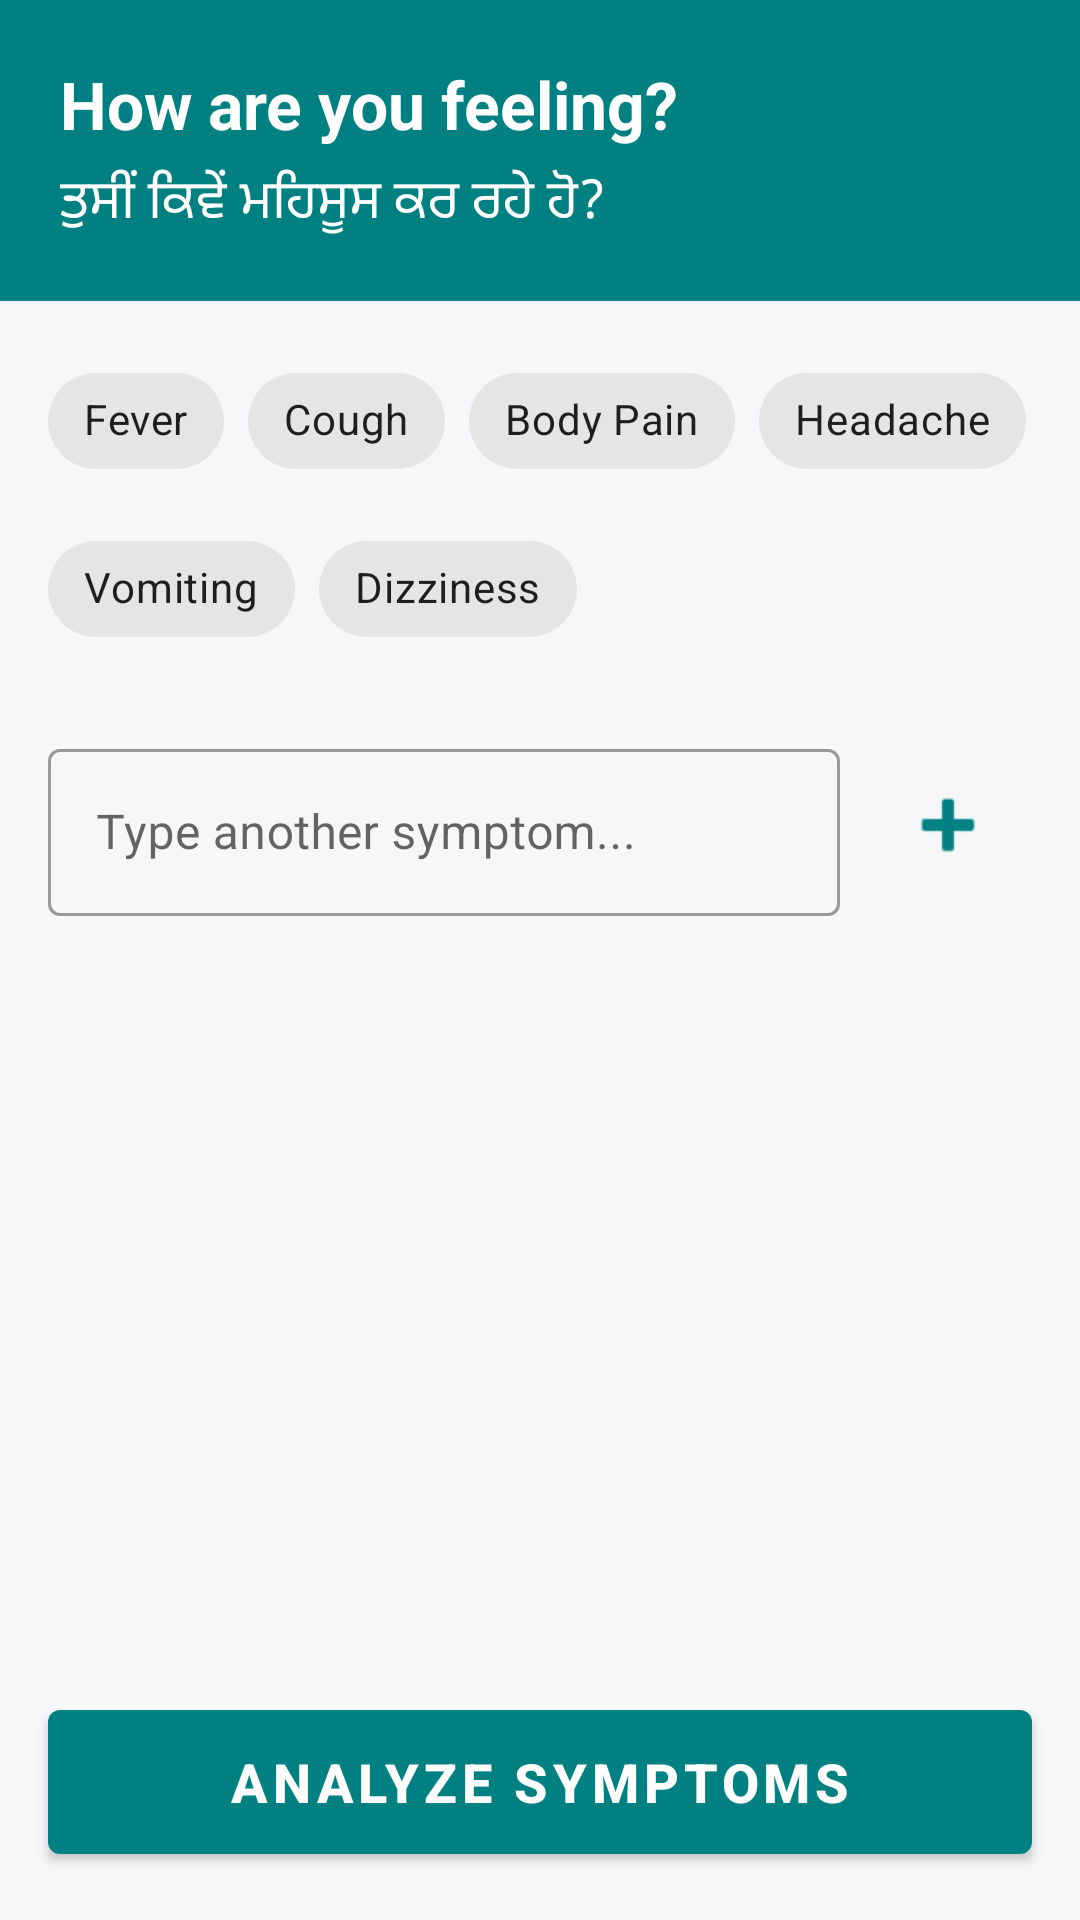

Named icons in this screenshot (1080 x 1920) and their centers, (x,y):
Add custom symptom: (948,825)
